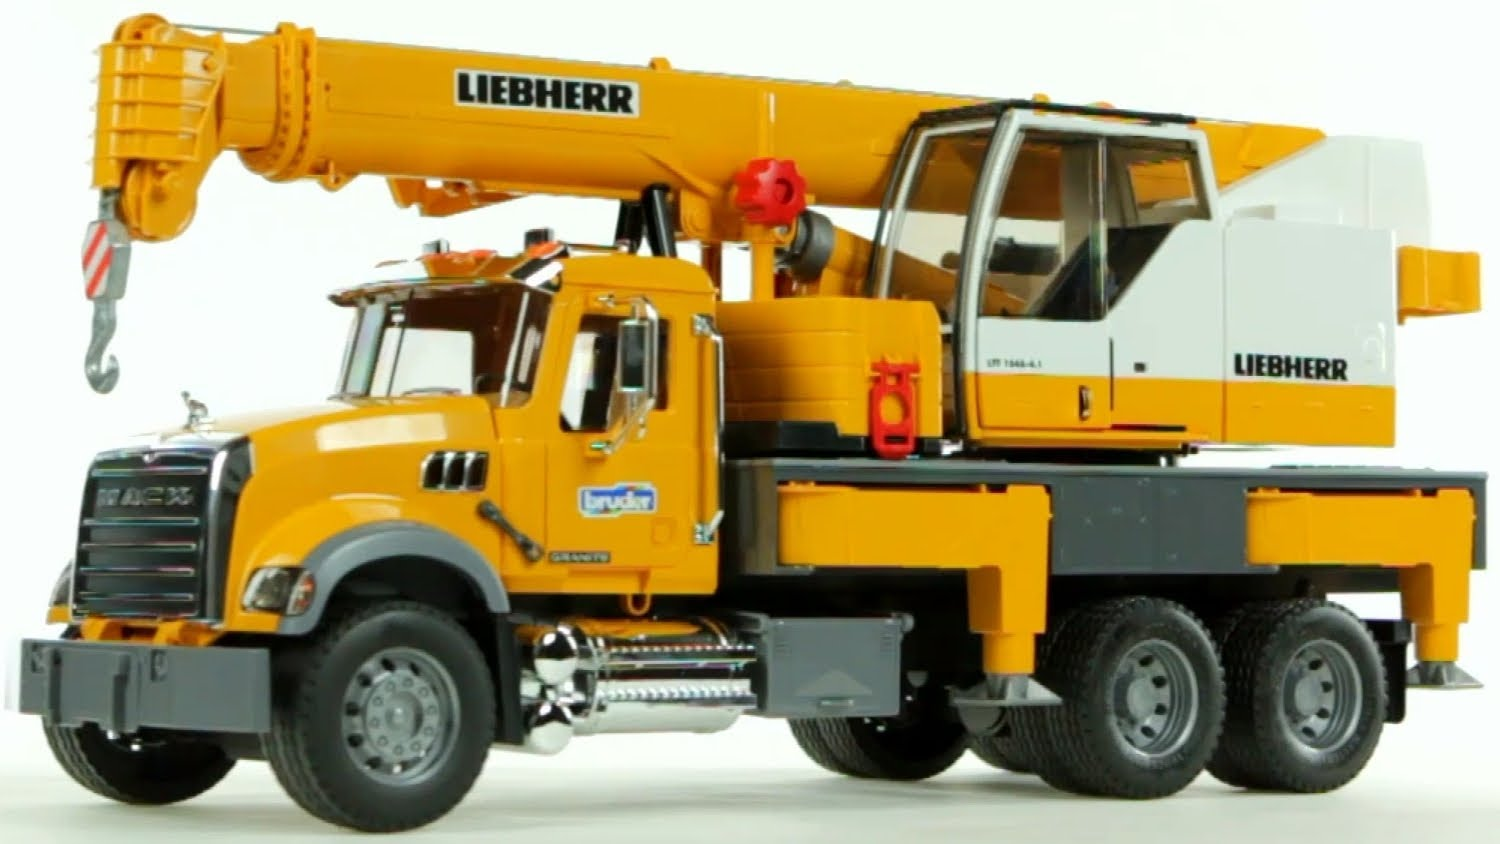crane: (14, 15, 1474, 819)
